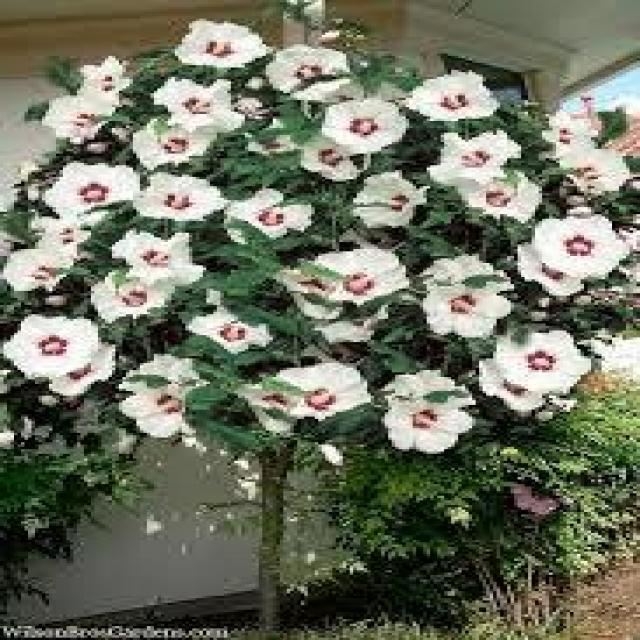organic waste: (413, 251, 528, 340), (376, 362, 484, 453), (287, 262, 395, 343), (256, 356, 374, 426), (482, 330, 588, 398), (30, 152, 131, 220), (120, 362, 198, 450), (532, 202, 619, 280), (254, 43, 362, 104), (115, 226, 224, 286), (355, 166, 435, 232), (406, 66, 500, 122), (170, 12, 260, 70), (168, 74, 248, 138), (9, 308, 89, 372), (226, 190, 313, 246), (287, 129, 374, 183), (130, 176, 234, 220), (426, 248, 504, 306), (538, 93, 602, 163), (328, 98, 412, 151), (194, 296, 264, 359), (457, 168, 548, 216), (427, 136, 514, 183), (31, 212, 91, 279), (44, 337, 117, 391), (134, 111, 212, 160), (565, 144, 635, 196), (336, 251, 402, 305), (101, 262, 161, 318), (16, 243, 75, 299), (49, 95, 108, 142), (75, 60, 135, 102)
